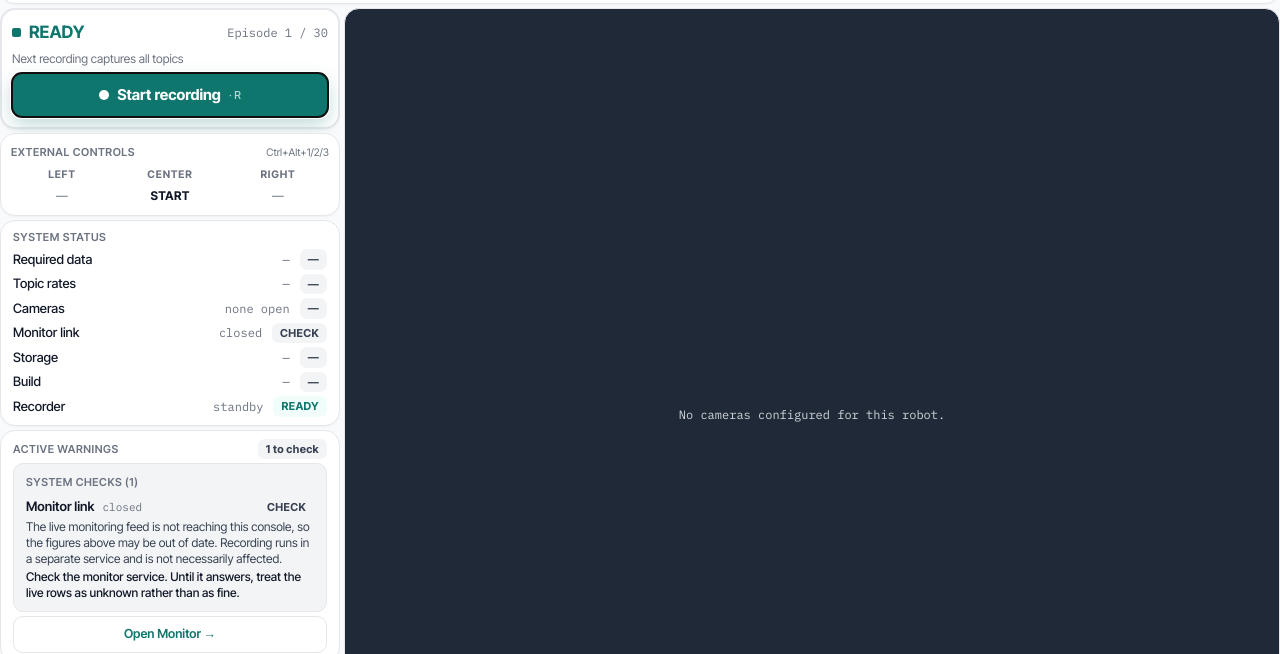
RIGHT on RESULT saves Success even when Failure was touched and backed out
expect the heading with test id "phase-title" reads "READY": met, box 29,22 -> 84,42
Press 2
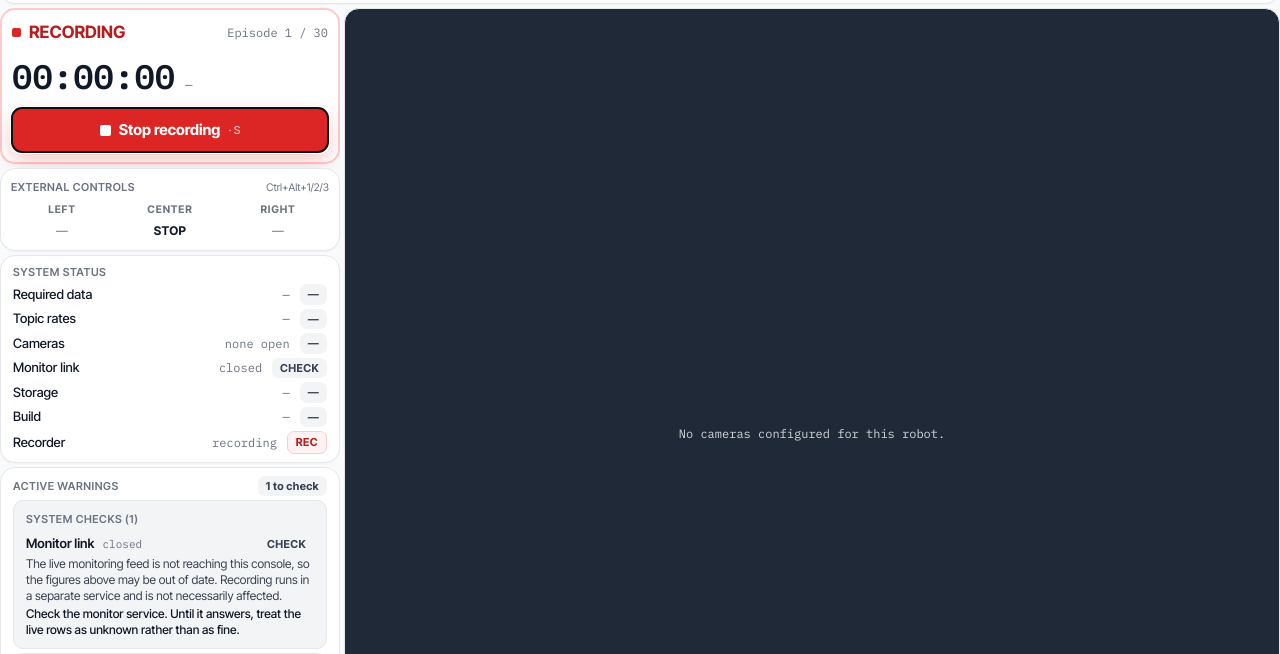
expect the heading with test id "phase-title" reads "RECORDING": met, box 29,22 -> 125,42
Press 2
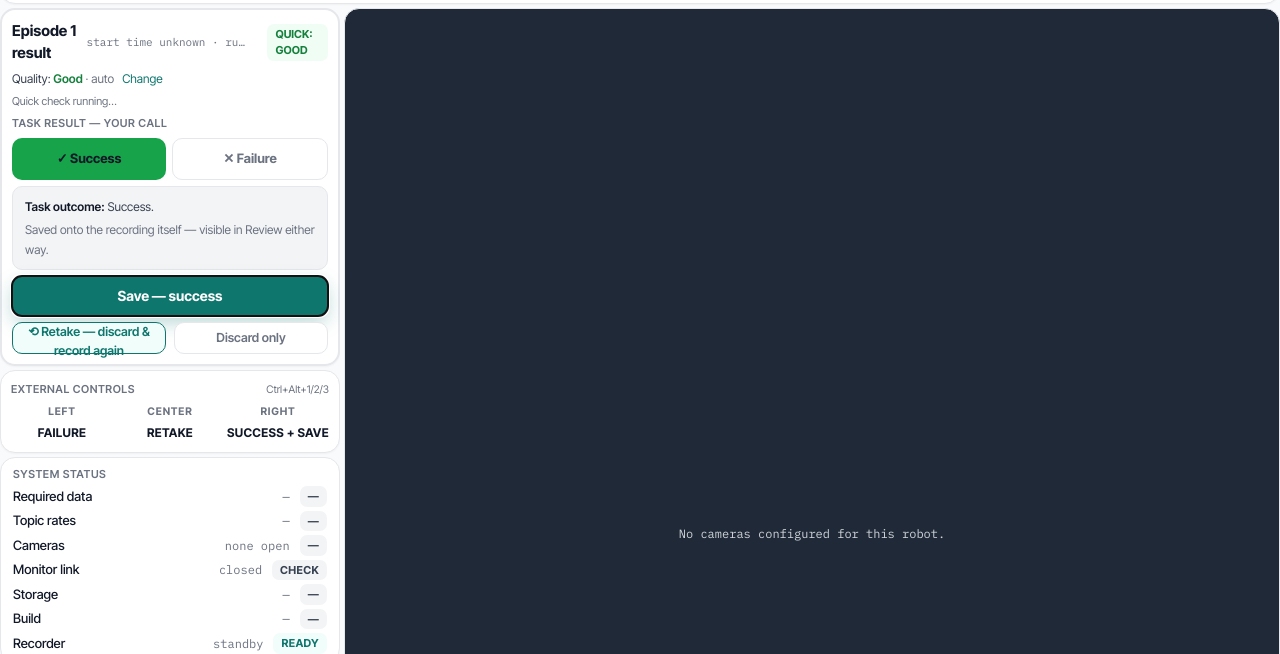
expect the heading with test id "phase-title" shows "result": met, box 12,43 -> 51,62
Press 1
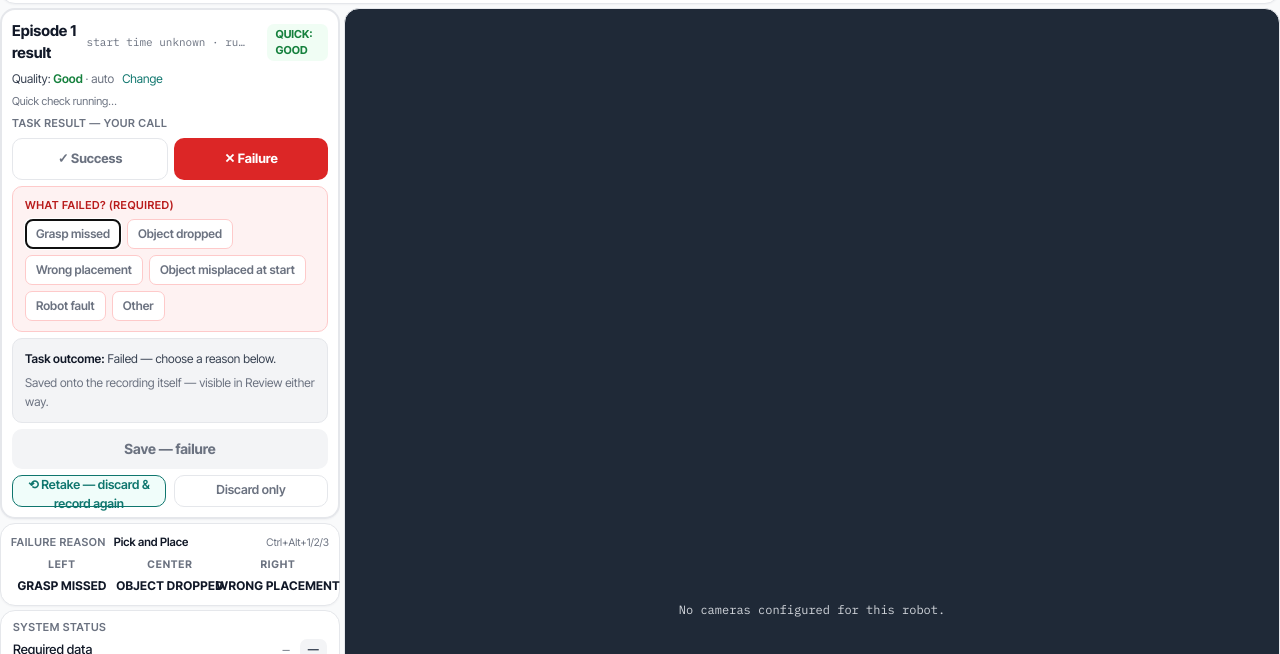
Click the button "✓ Success". click: (90, 159)
box: 12,138 -> 168,180
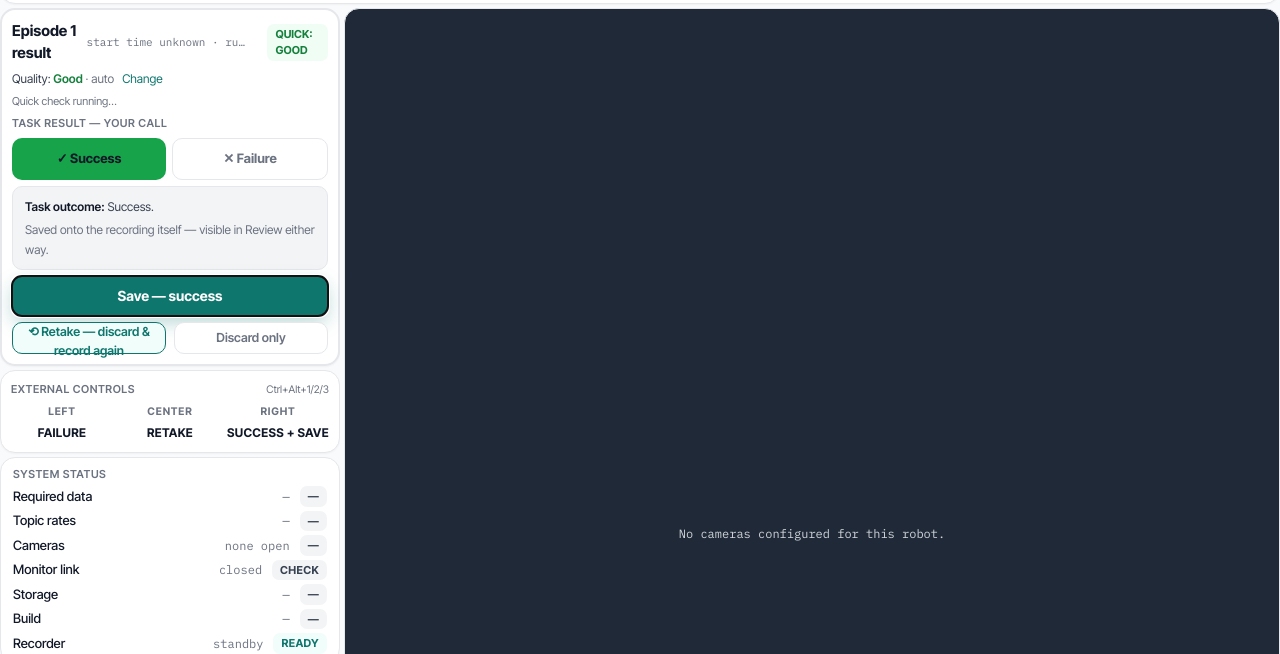
Press 3
(page scrolled)
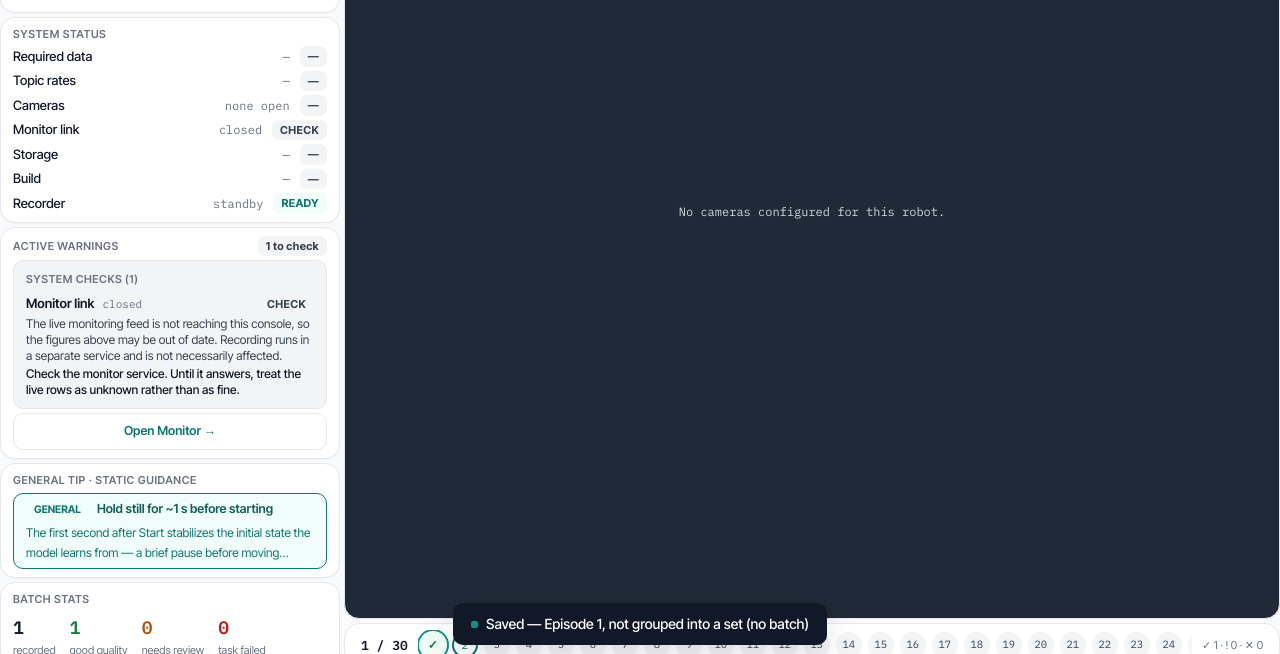
expect the text with test id "stat-recorded" reads "1": met, box 13,616 -> 24,639
